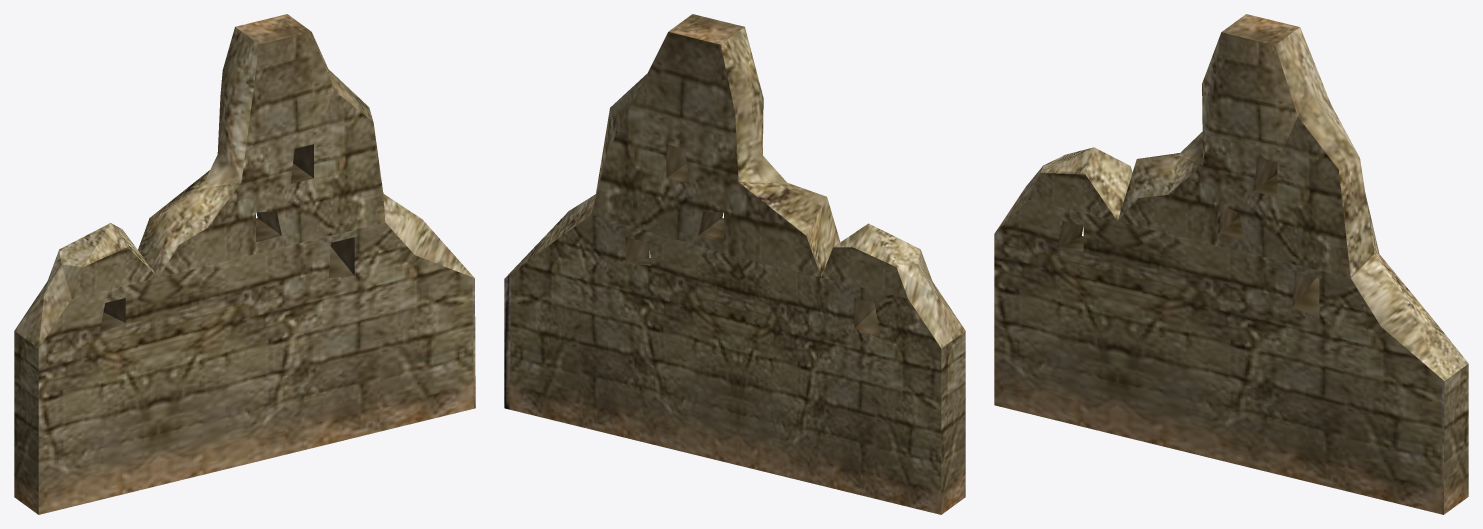
The picture shows the model from 3 angles, left to right: view 1: azimuth 30°, elevation 25°; view 2: azimuth 150°, elevation 25°; view 3: azimuth 330°, elevation 25°; orthographic projection. The views are drawn at different scales.
Parts seen in each view (by area): view 1: a32; view 2: a32; view 3: a32.
Part boxes in pixels (x1,y1,x2,y2): a32: [14, 14, 475, 514]; a32: [504, 14, 965, 514]; a32: [994, 14, 1468, 514].
Size of the model in its own units: 1431 by 1303 by 138.
